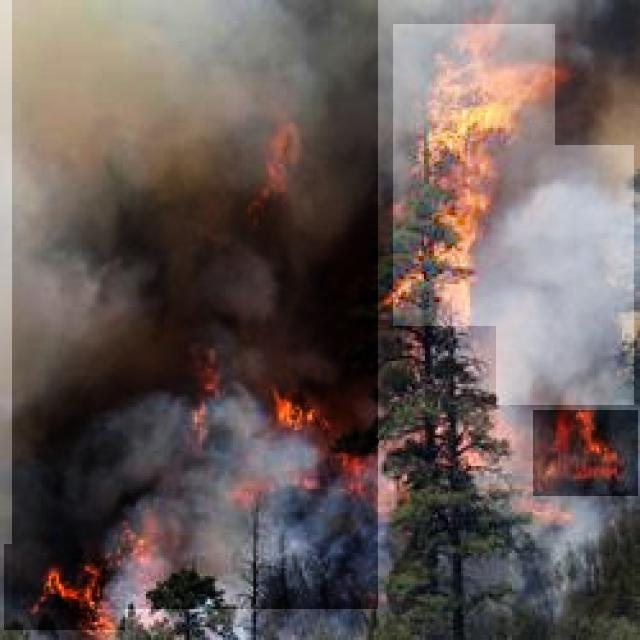Fire: (394, 24, 556, 326), (4, 544, 125, 630), (533, 410, 638, 496), (242, 106, 313, 223), (319, 438, 393, 512), (183, 343, 235, 444), (266, 382, 342, 446)
Smoke: (12, 0, 378, 609), (496, 145, 634, 405)
